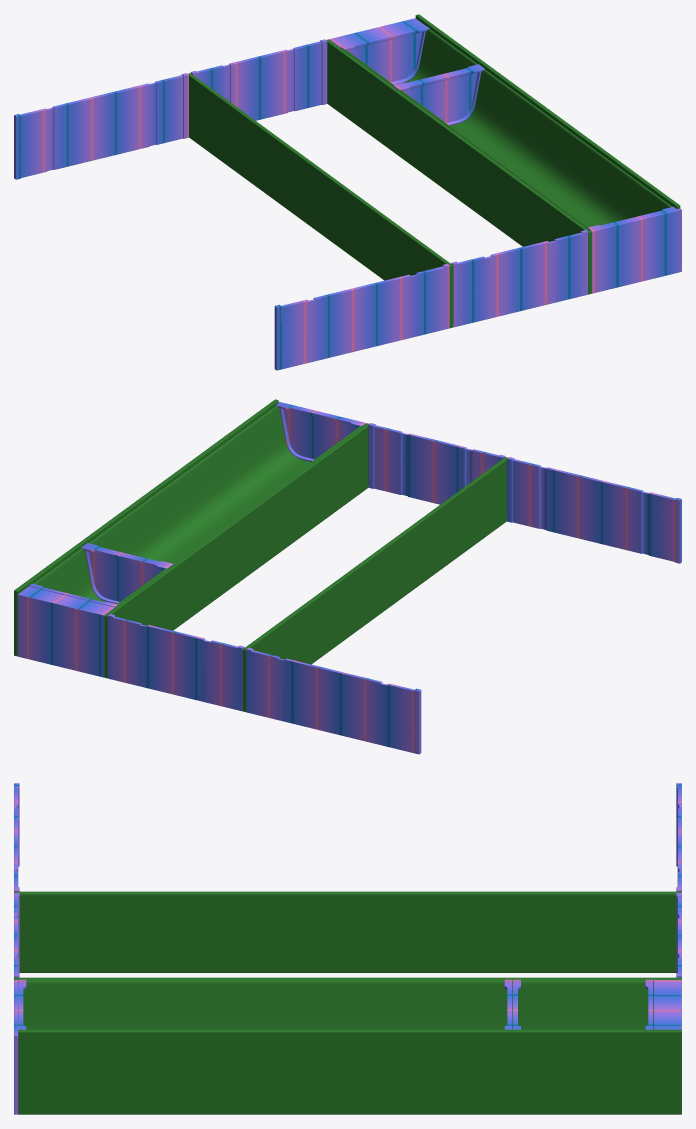
The model's file is SM_Drawer_Divider_06.fbx.
3 renders of one model, top to bottom at view 1: azimuth 30°, elevation 25°; view 2: azimuth 150°, elevation 25°; view 3: azimuth 270°, elevation 25°, orthographic. The views are drawn at different scales.
Visible parts, largest first — view 1: SM_Drawer_Divider_06; view 2: SM_Drawer_Divider_06; view 3: SM_Drawer_Divider_06.
Part boxes in pixels (box(x1,y1,x2,y2)): SM_Drawer_Divider_06: box(14, 14, 681, 370); SM_Drawer_Divider_06: box(14, 399, 681, 754); SM_Drawer_Divider_06: box(14, 783, 681, 1114).
Bounding box in the file's own units: 42.2 × 6.5 × 47.4.
2 materials, 1 textured.
